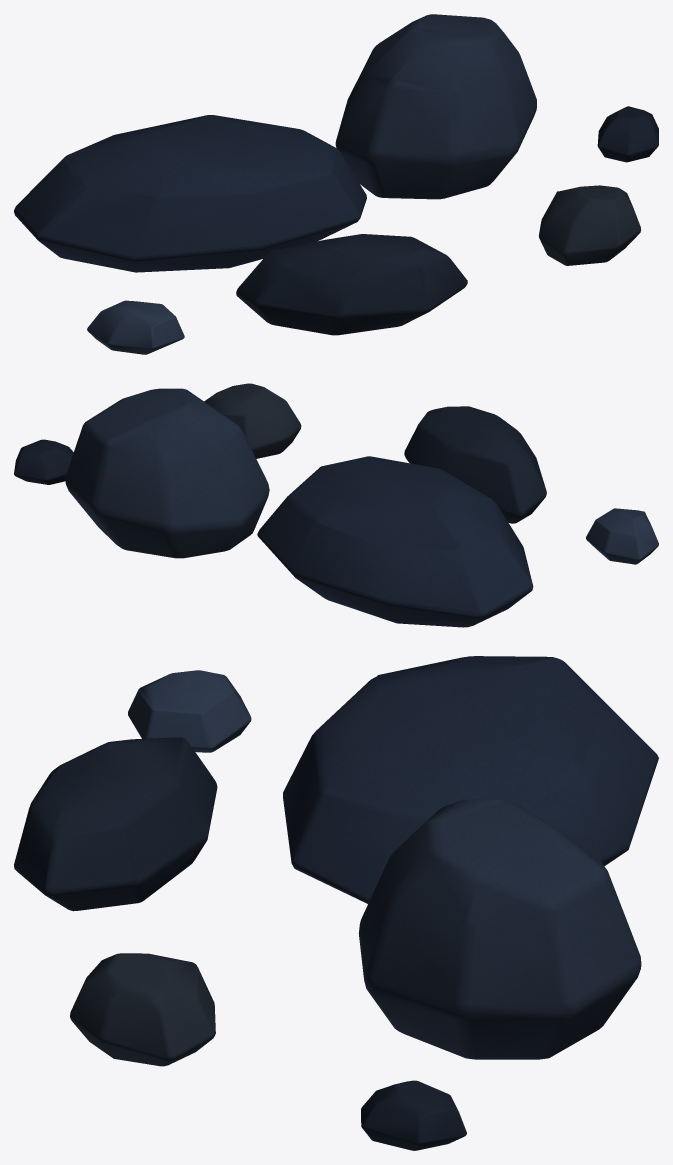
The model's file is P1_Cailloux_A.glb.
3 renders of one model, top to bottom at view 1: azimuth 30°, elevation 25°; view 2: azimuth 150°, elevation 25°; view 3: azimuth 270°, elevation 25°, orthographic. The views are drawn at different scales.
Parts seen in each view (by area): view 1: P1_Cailloux_A_Pierres; view 2: P1_Cailloux_A_Pierres; view 3: P1_Cailloux_A_Pierres.
Boxes of the visible parts, box(x1,y1,x2,y2) form: P1_Cailloux_A_Pierres: box(14, 14, 658, 354); P1_Cailloux_A_Pierres: box(14, 383, 658, 627); P1_Cailloux_A_Pierres: box(14, 656, 658, 1150).
Bounding box in the file's own units: 2.24 × 0.4848 × 1.36.
1 material, 1 textured.
